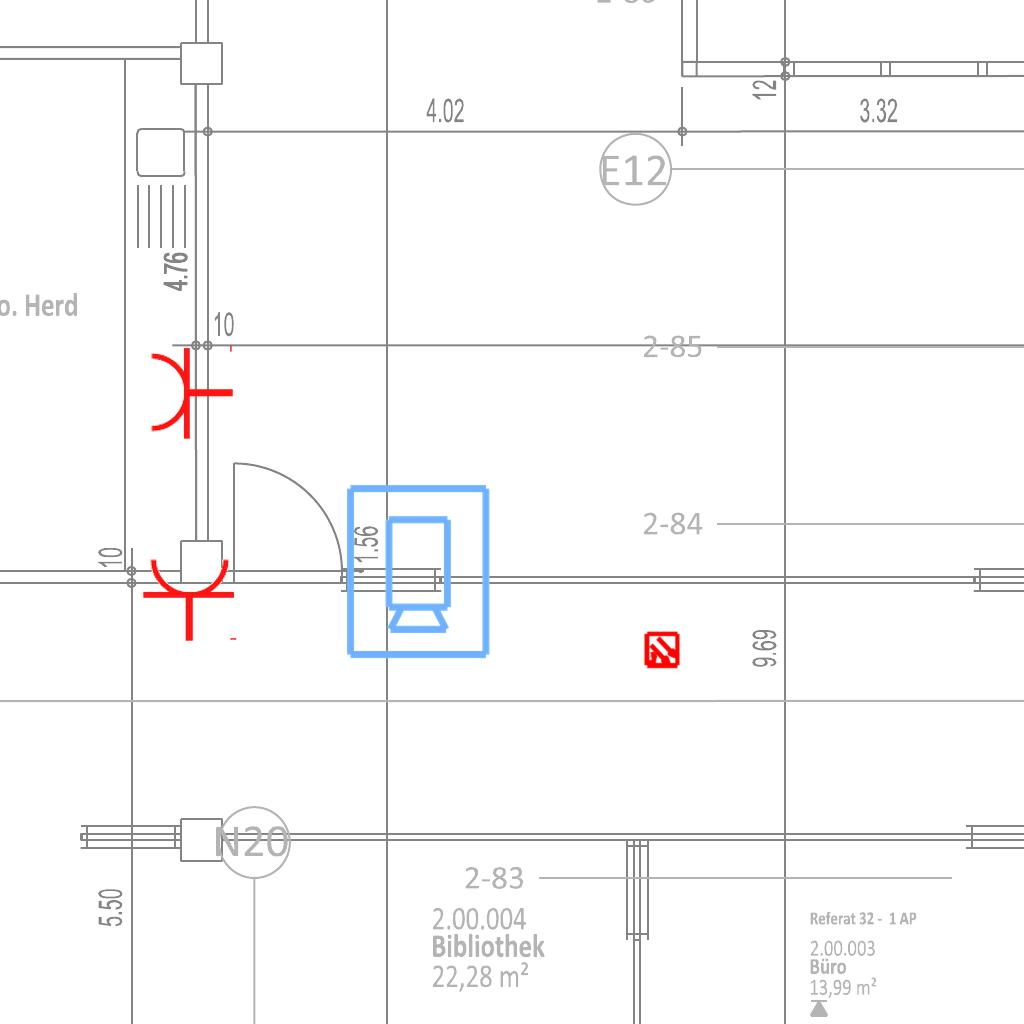KFO_Kamera_mit_Festobjektiv: (340, 480, 494, 662)
OT_Multisensormelder_(Kombination_RMO_WMD): (634, 623, 690, 679)
Schukosteckdose_einfach: (141, 556, 241, 643), (148, 341, 235, 441)
